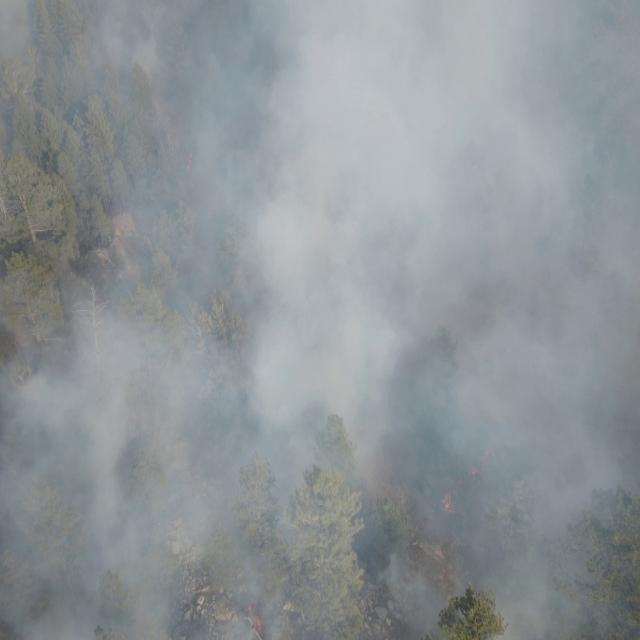fire: (458, 447, 498, 484), (244, 600, 268, 640), (438, 488, 454, 513), (184, 153, 193, 175)
smoke: (0, 0, 640, 640)
